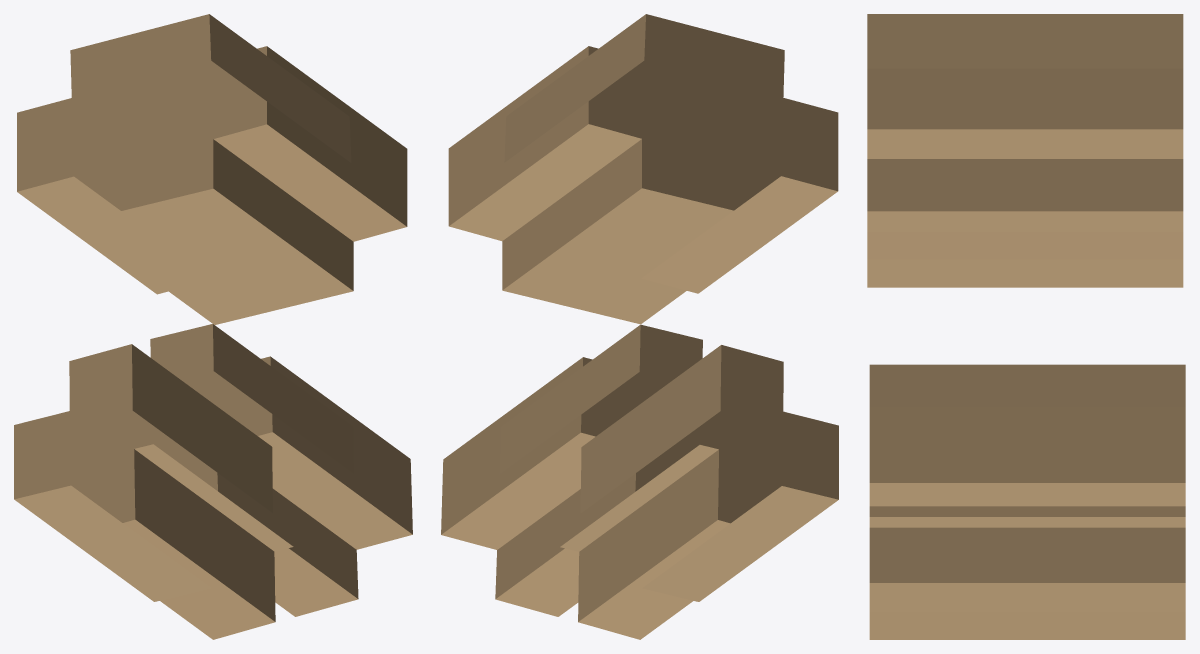
3 renders of one model, left to right at view 1: azimuth 30°, elevation 25°; view 2: azimuth 150°, elevation 25°; view 3: azimuth 270°, elevation 25°, orthographic. The views are drawn at different scales.
Parts seen in each view (by area): view 1: 0_0_1_2_0_0_1_1_3; view 2: 0_0_1_2_0_0_1_1_3; view 3: 0_0_1_2_0_0_1_1_3.
Part boxes in pixels (<box>): 0_0_1_2_0_0_1_1_3: <box>14,14,412,639</box>; 0_0_1_2_0_0_1_1_3: <box>441,14,838,639</box>; 0_0_1_2_0_0_1_1_3: <box>867,14,1185,639</box>.
Bounding box in the file's own units: 28.75 × 52.15 × 27.2.
